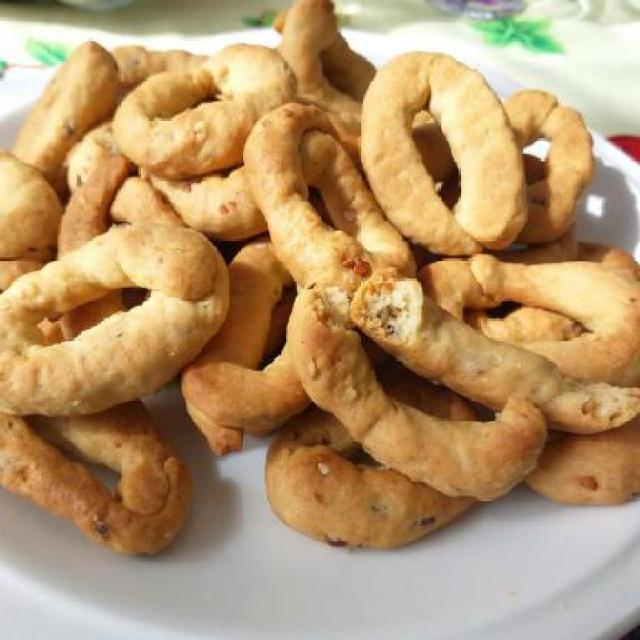Taralli: (21, 36, 621, 544)
